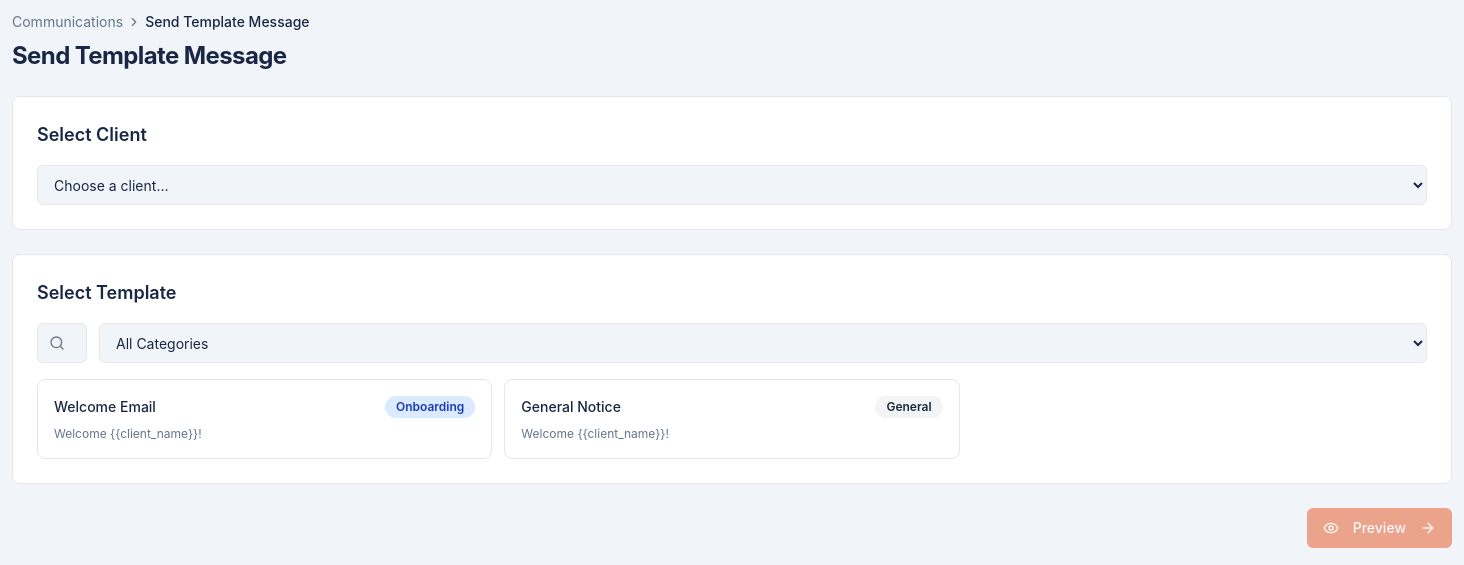
Test case: SendTemplateView › filters templates by category
The image size is (1464, 565).
Select "Onboarding" in the dropdown below "Select Template". click: (763, 343)
box: [99,323,1427,363]
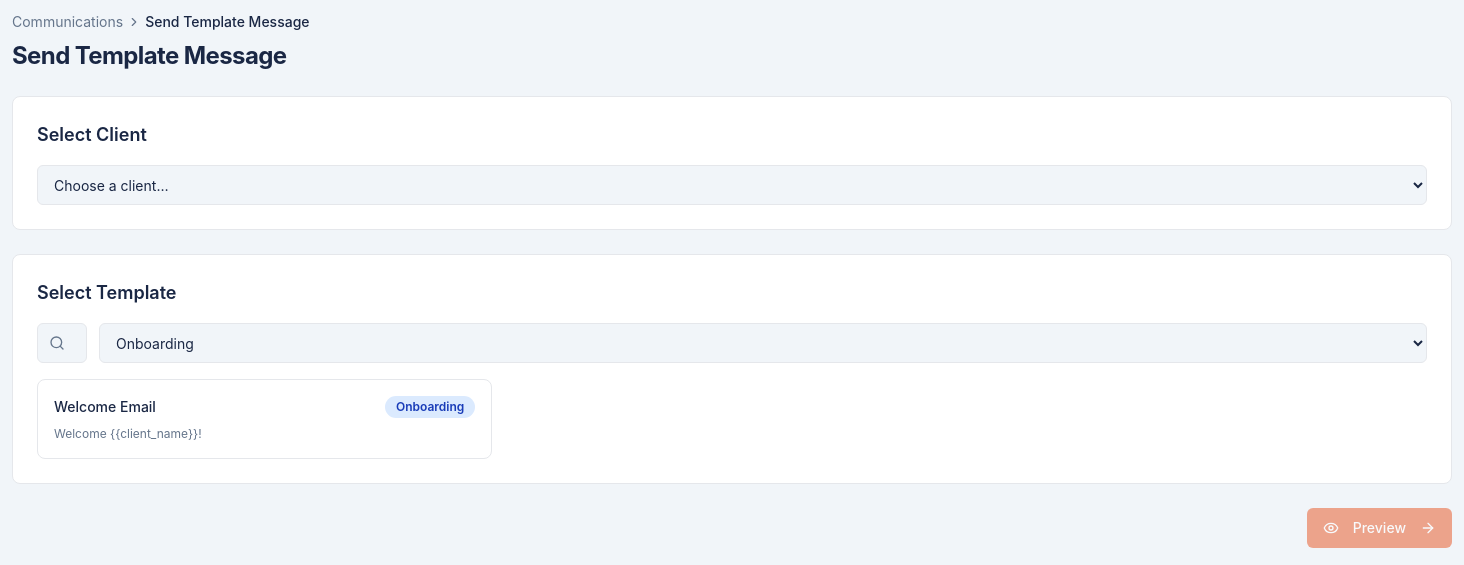
Check: the text "Welcome Email" is shown, box [54,397,156,417]
Check: the button "General Notice" is gone
